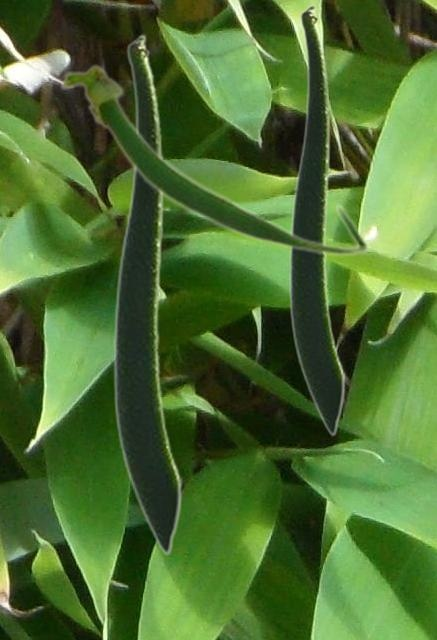french_bean: (58, 61, 370, 257), (112, 33, 182, 555), (288, 3, 345, 436)
